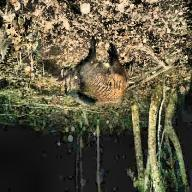boar: (55, 33, 126, 111)
